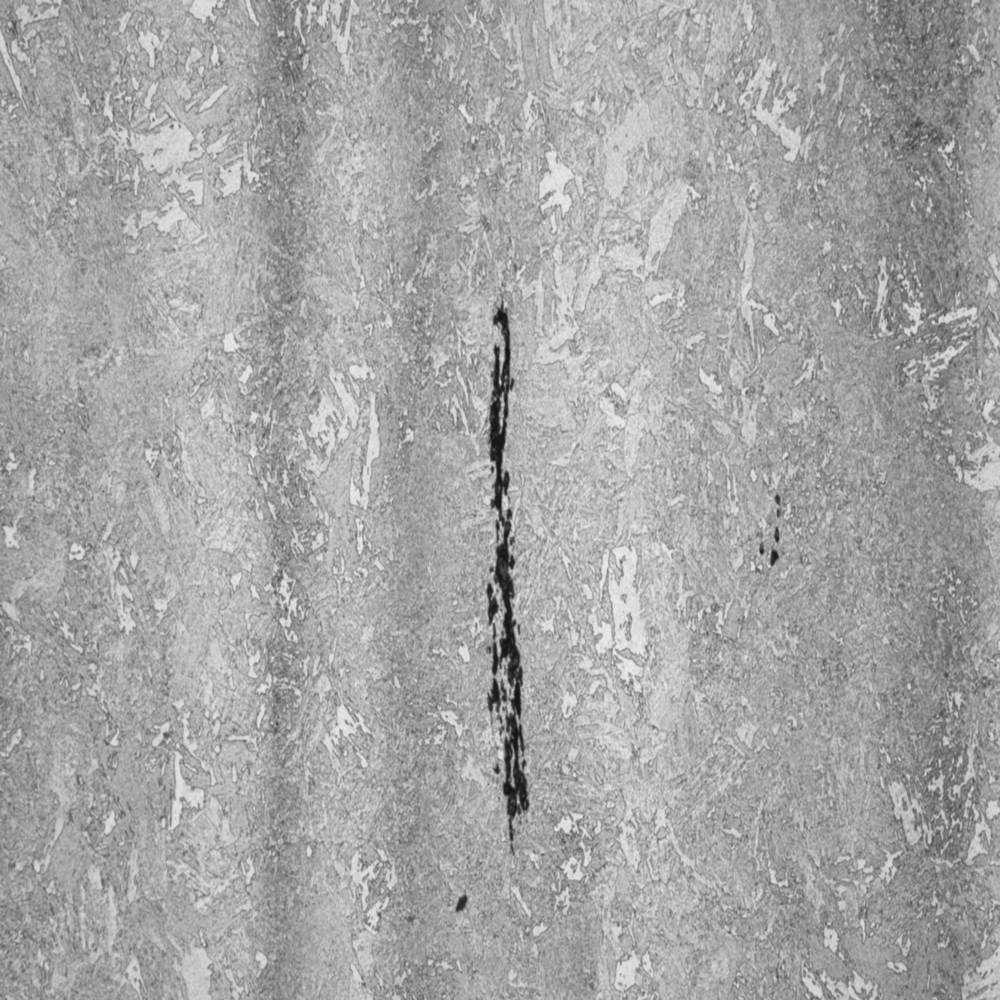crack: (461, 288, 551, 857), (747, 482, 799, 587)
